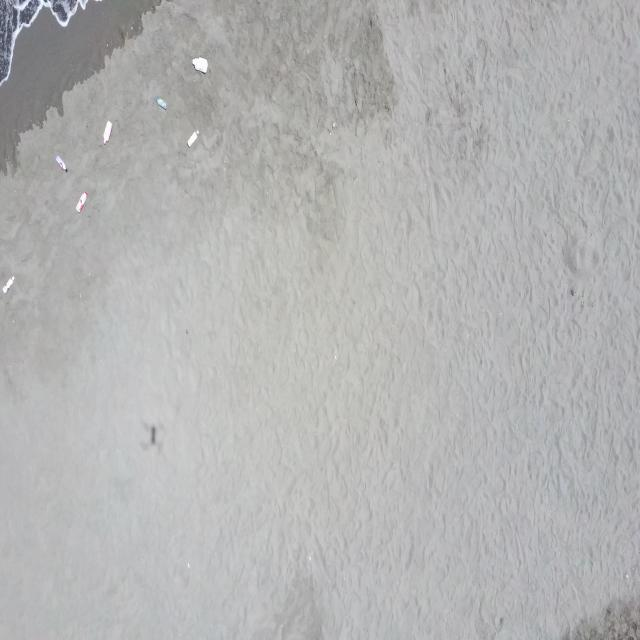Garbage: (75, 192, 87, 212), (193, 56, 207, 72), (187, 129, 198, 147), (103, 120, 111, 143), (56, 155, 67, 171), (3, 276, 13, 292), (156, 96, 166, 108)
